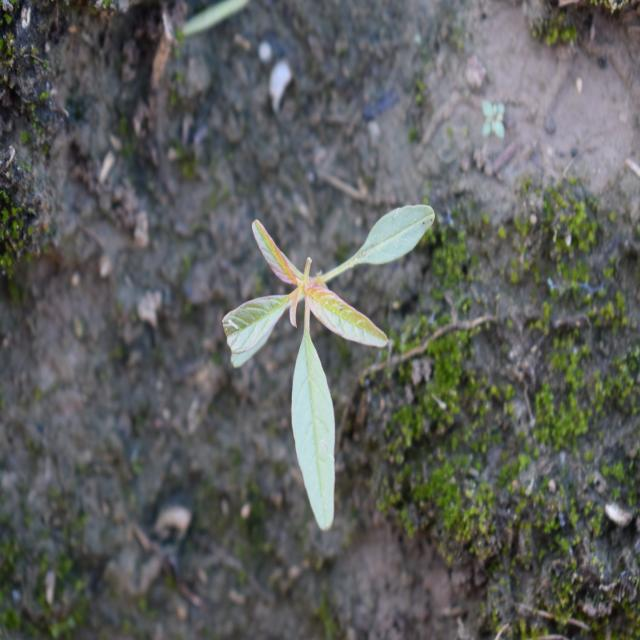Waterhemp: (221, 202, 436, 534)
